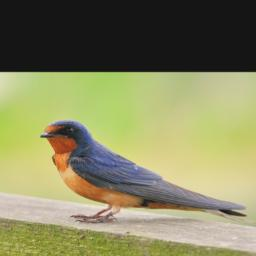Swallow: (35, 116, 249, 230)
